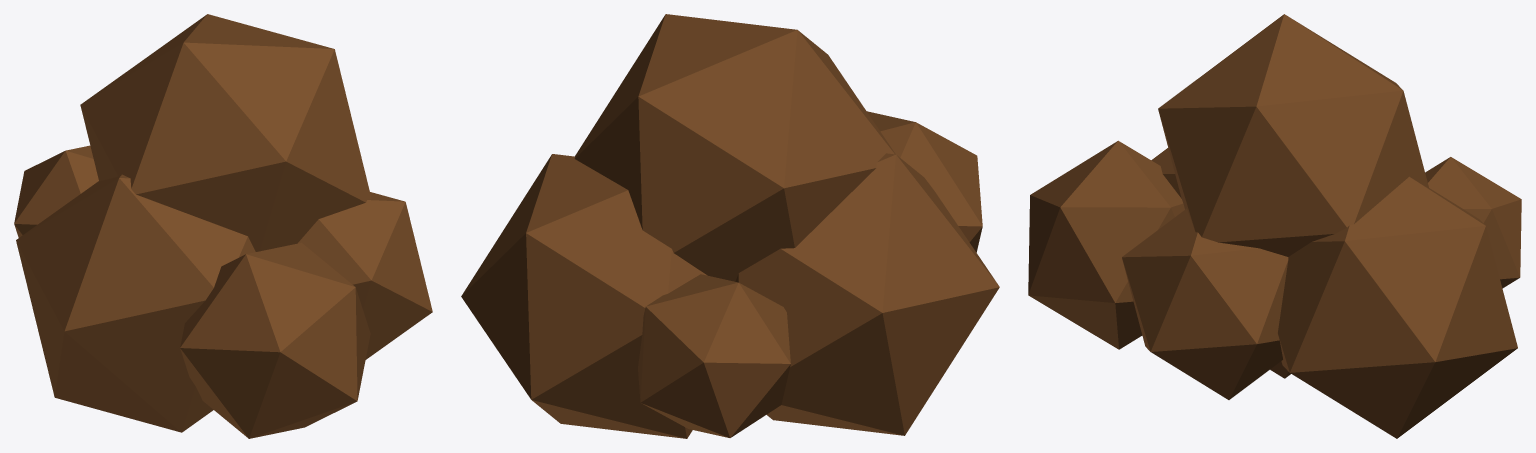
File: rock_outcropping.FBX
The picture shows the model from 3 angles, left to right: view 1: azimuth 30°, elevation 25°; view 2: azimuth 150°, elevation 25°; view 3: azimuth 270°, elevation 25°; orthographic projection. The views are drawn at different scales.
Visible parts, largest first — view 1: outcropping; view 2: outcropping; view 3: outcropping.
Part boxes in pixels (x1,y1,x2,y2): outcropping: (14,14,432,438); outcropping: (461,14,999,438); outcropping: (1028,14,1521,438).
Bounding box in the file's own units: 82.9 × 75.18 × 94.93.
